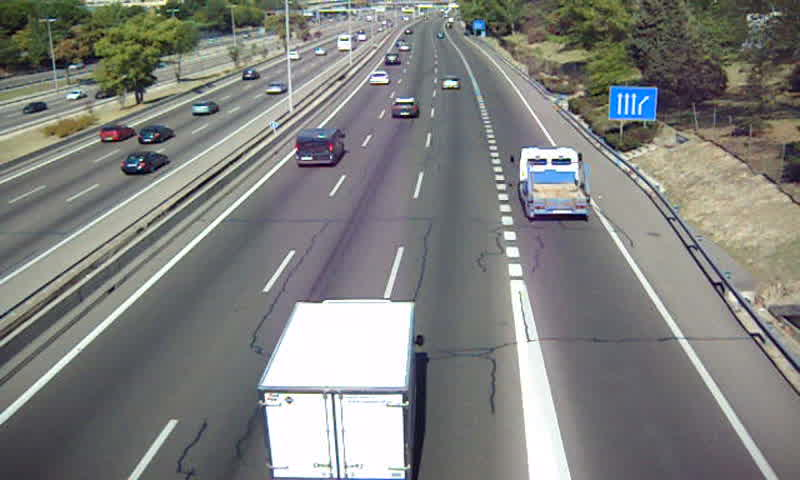car: (391, 97, 419, 120), (441, 76, 462, 93), (367, 71, 389, 87), (384, 50, 402, 66)
small-truck: (261, 300, 420, 480), (518, 145, 591, 220)
van: (295, 129, 344, 166)
